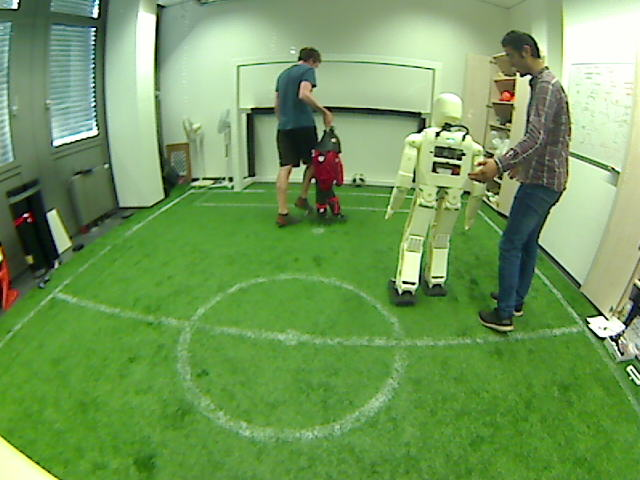ball: (350, 169, 368, 191)
goalpost: (230, 155, 252, 192)
robot: (389, 222, 443, 299), (322, 172, 339, 222)
